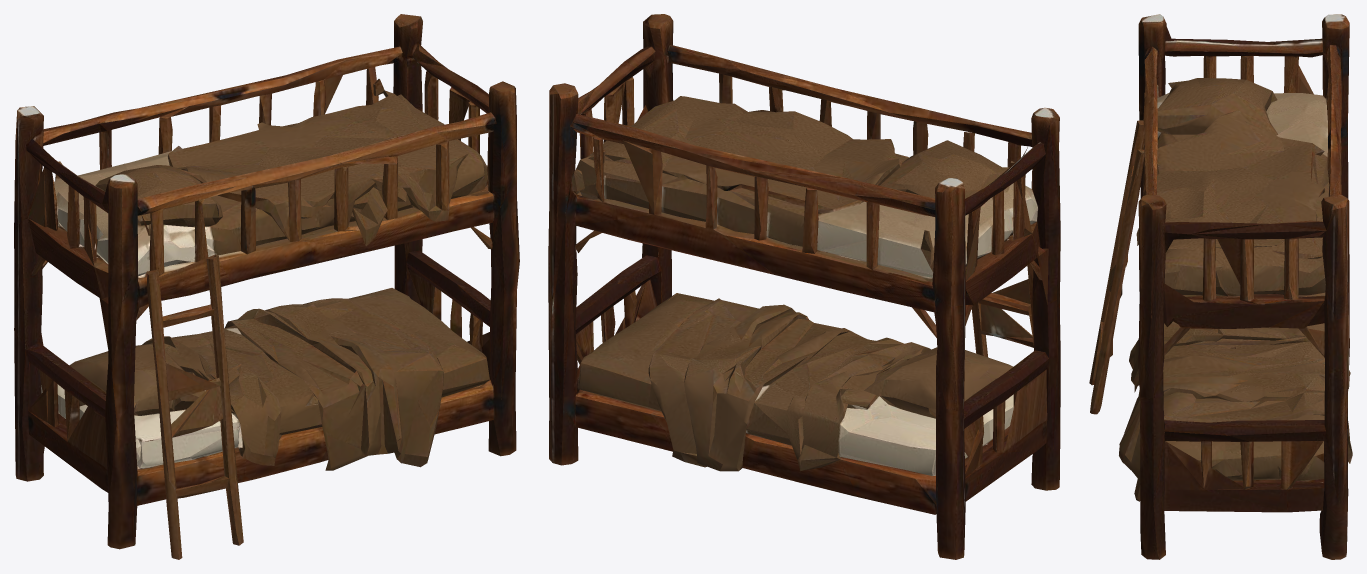
The model's file is bunk.glb.
The picture shows the model from 3 angles, left to right: view 1: azimuth 30°, elevation 25°; view 2: azimuth 150°, elevation 25°; view 3: azimuth 270°, elevation 25°; orthographic projection. The views are drawn at different scales.
Parts seen in each view (by area): view 1: bunk; view 2: bunk; view 3: bunk.
Boxes of the visible parts, bbox=[...] form: bunk: bbox=[14, 14, 519, 559]; bunk: bbox=[548, 14, 1060, 559]; bunk: bbox=[1089, 14, 1352, 559].
Bounding box in the file's own units: 2.05 × 1.75 × 1.17.
1 material, 1 textured.
